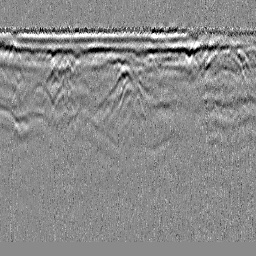cavity: (103, 62, 150, 103)
